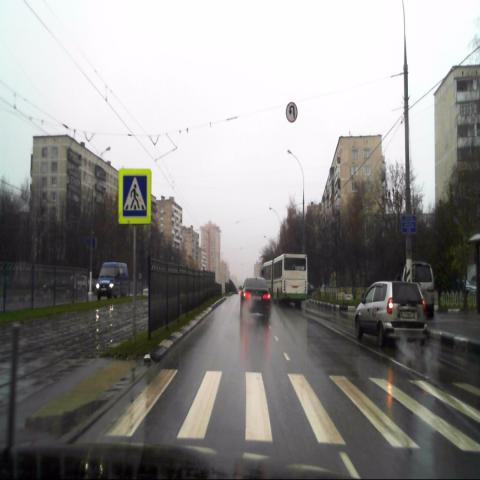3_19: (286, 101, 298, 123)
